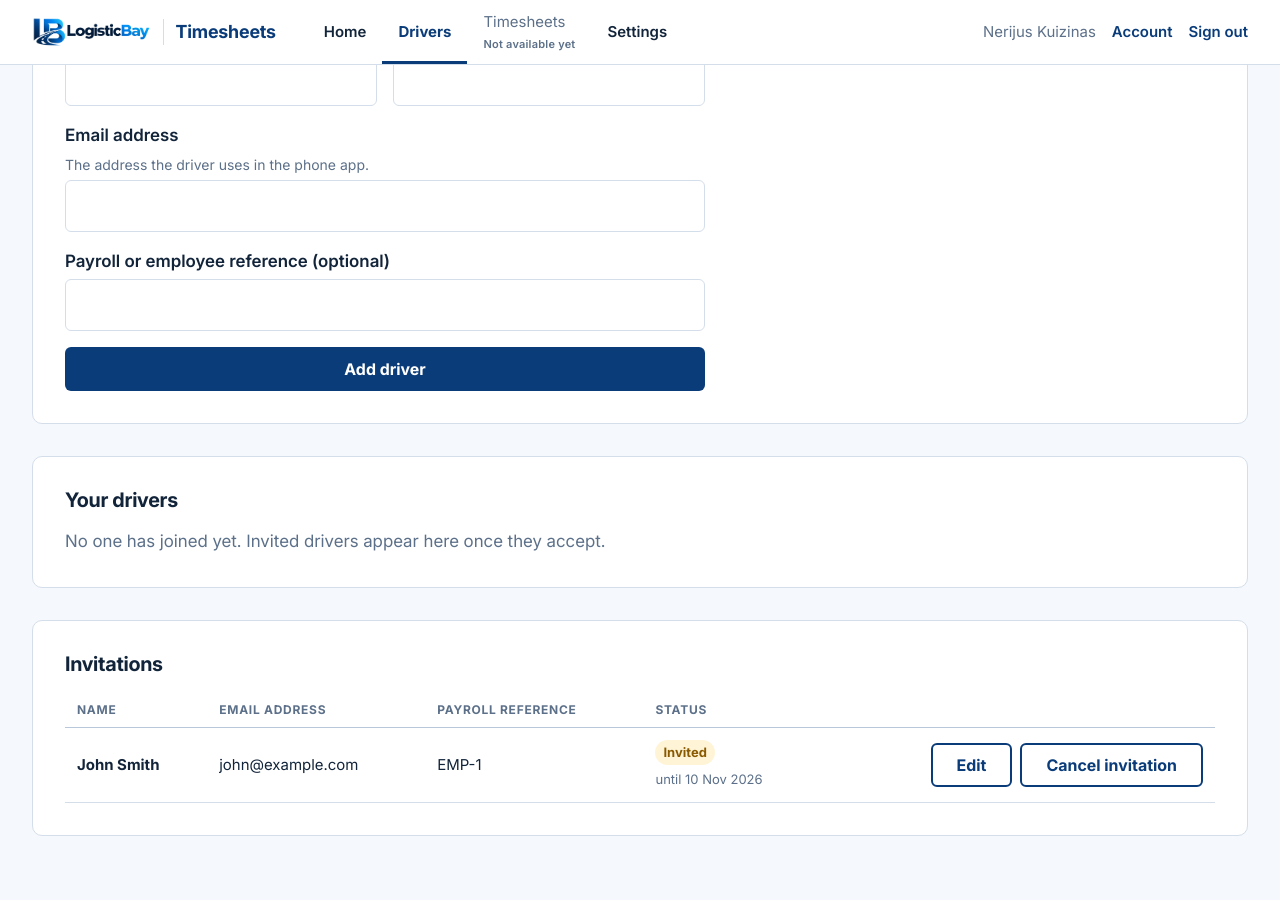
Scenario: correcting and cancelling › DP12. Cancel asks first; confirming cancels, and the row says Cancelled
The width and height of the screenshot is (1280, 900).
(page scrolled)
expect the row that starts with "John Smith" is shown: met, box [65,728,1215,803]
Click the button "Cancel invitation" at (1112, 765), box [1020,743,1203,787]
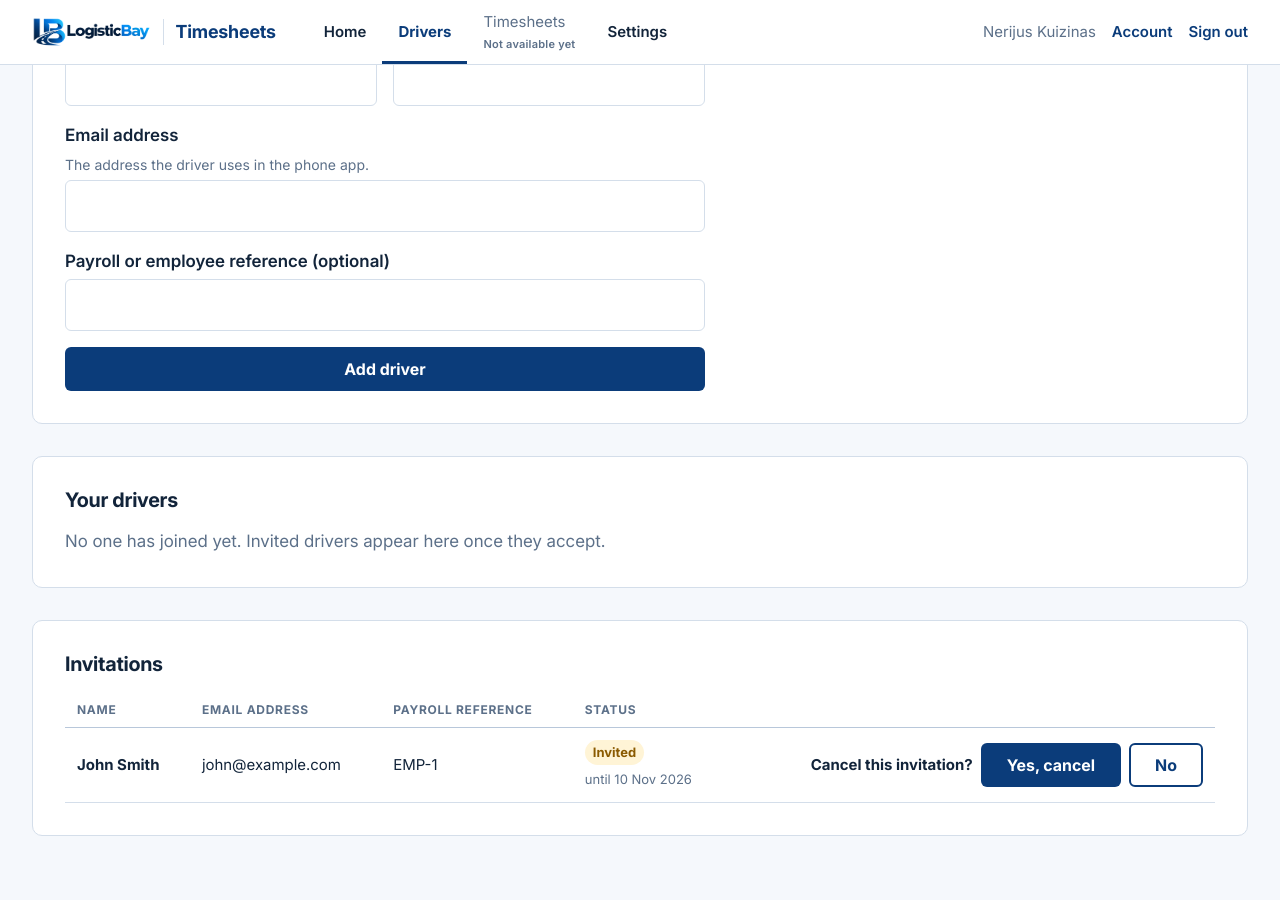
Click the button "Yes, cancel" at (1051, 765), box [981,743,1121,787]
(page scrolled)
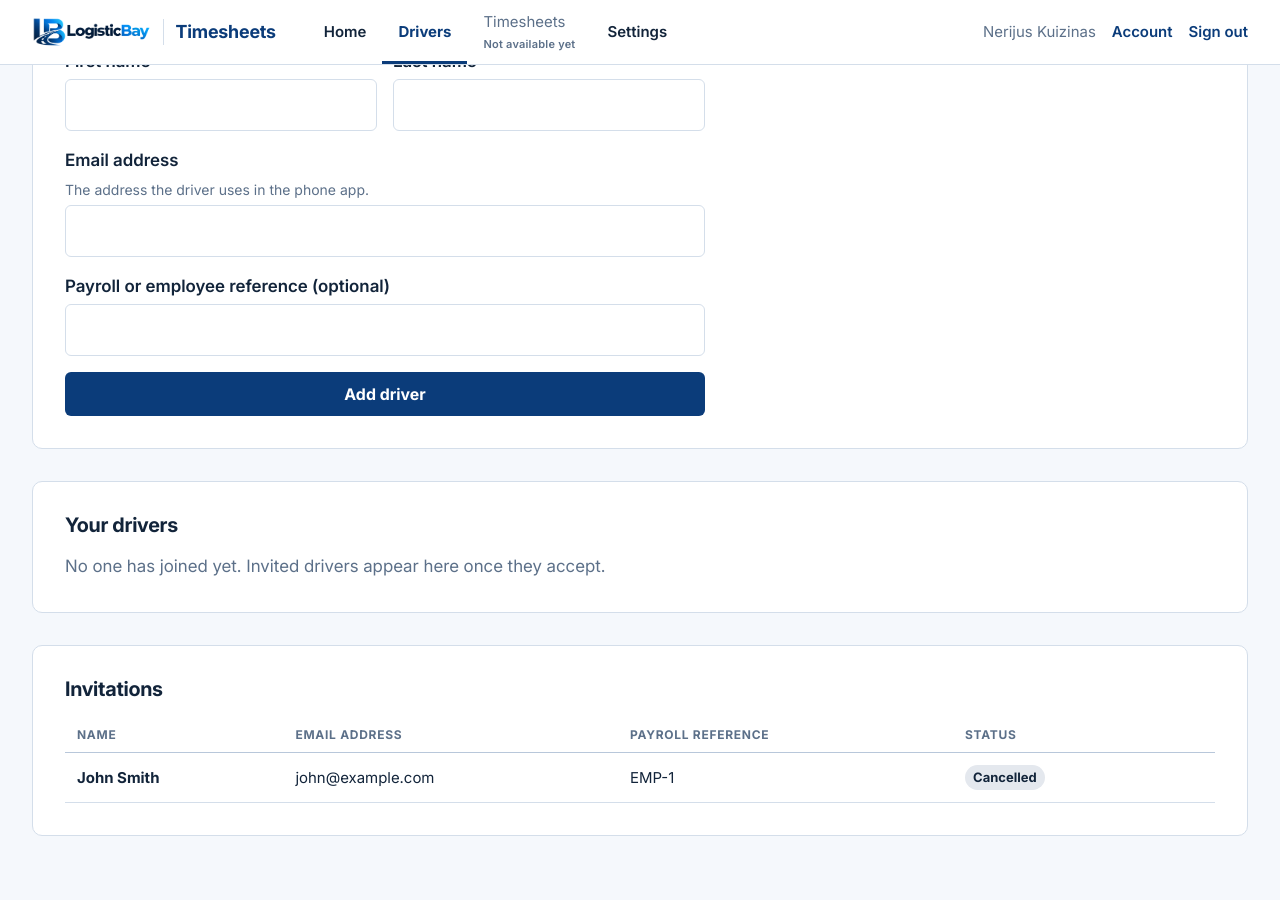
expect the row "John Smith john@example.com EMP-1 Cancelled" is shown: met, box [65,753,1215,803]
